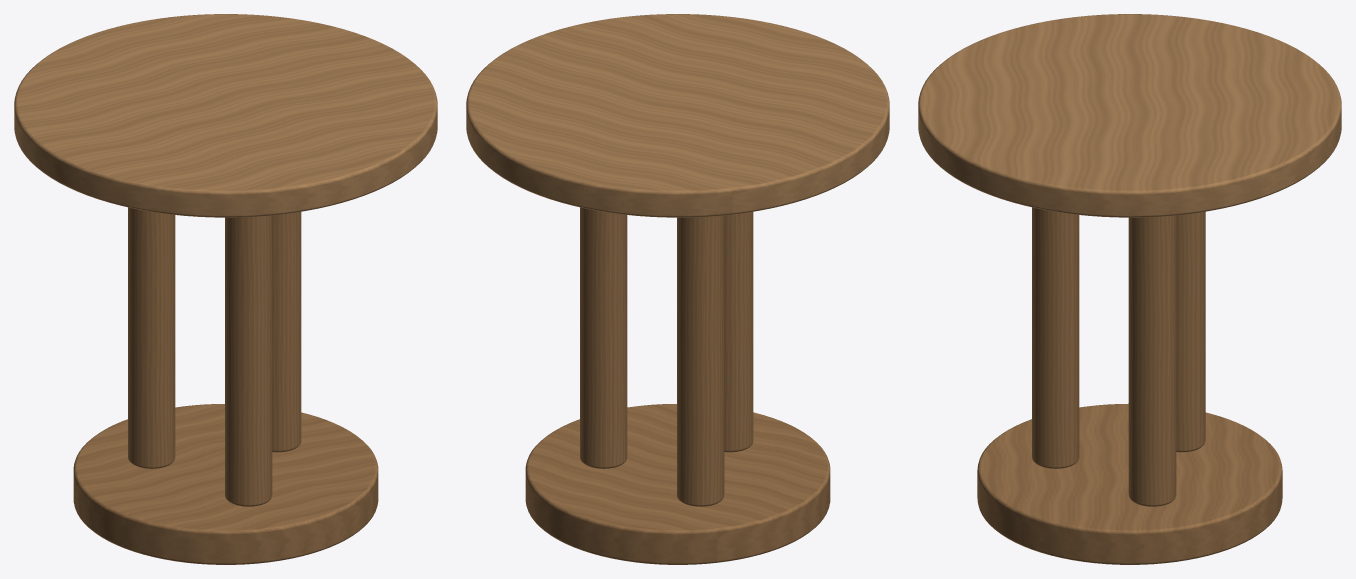
Rendered from mesa_lateral.glb.
The picture shows the model from 3 angles, left to right: view 1: azimuth 30°, elevation 25°; view 2: azimuth 150°, elevation 25°; view 3: azimuth 270°, elevation 25°; orthographic projection.
Parts seen in each view (by area): view 1: mesa_lateral; view 2: mesa_lateral; view 3: mesa_lateral.
Part boxes in pixels (bbox=[...]): mesa_lateral: bbox=[14, 14, 437, 564]; mesa_lateral: bbox=[466, 14, 889, 564]; mesa_lateral: bbox=[918, 14, 1341, 564].
Size of the model in its own units: 0.5 by 0.52 by 0.5.
Materials: 2 (2 with a texture image).
